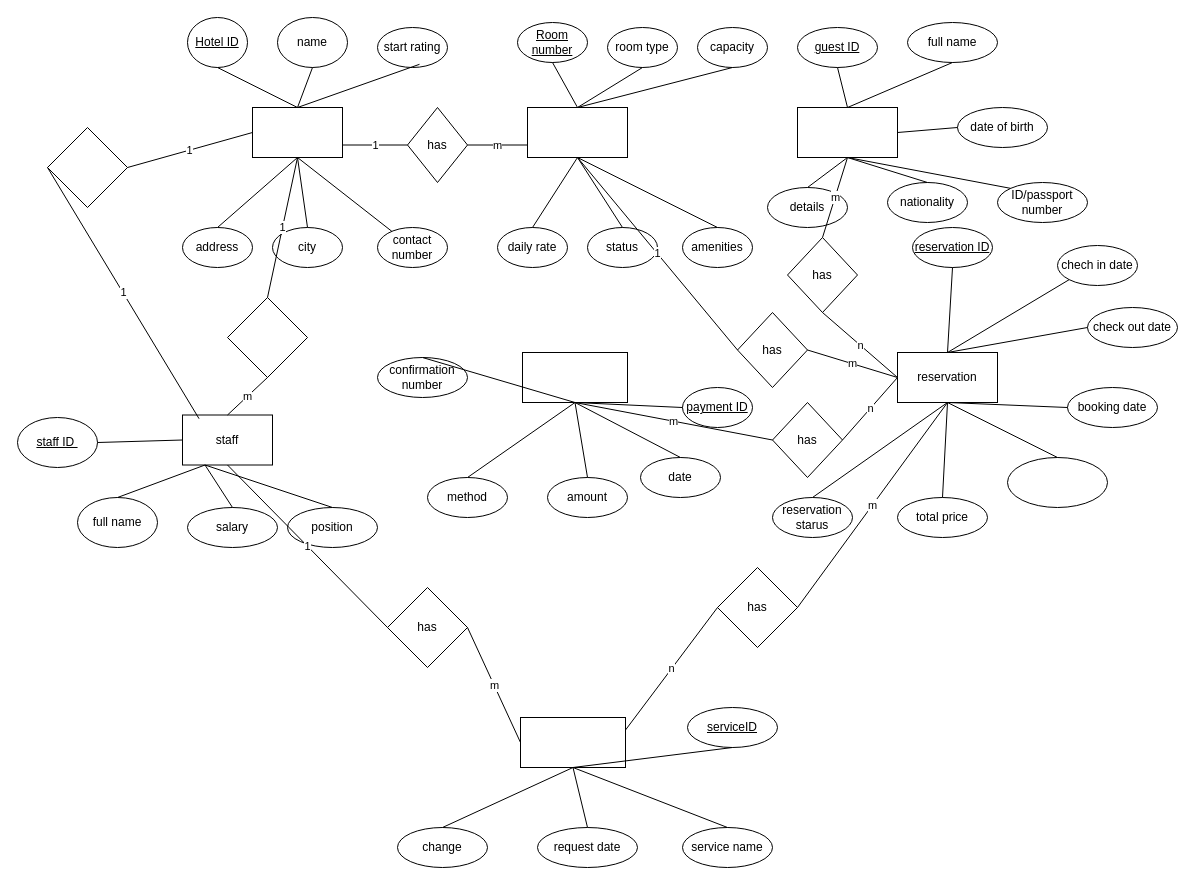
Image size: 1195x885. Some labels were removed from this diagram. Each missing label, with the centre of its shape:
"Guest" belongs at pixel 847 132.
"Hotel" belongs at pixel 297 132.
"manage" belongs at pixel 87 167.
"number of adult and children" belongs at pixel 1057 482.
"payment" belongs at pixel 575 377.
"Rooms" belongs at pixel 577 132.
"servvice" belongs at pixel 573 742.
"work" belongs at pixel 267 337.
